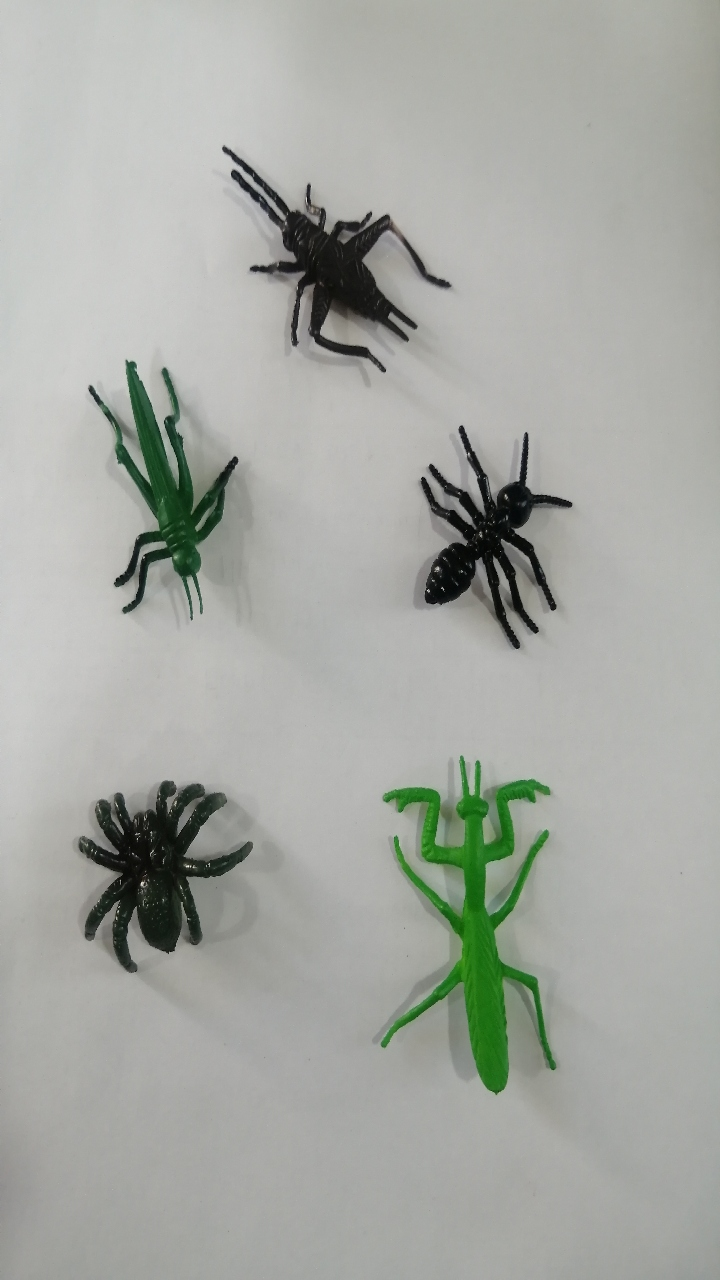intruso: (341, 731, 583, 1126), (200, 103, 475, 400), (48, 317, 248, 645), (395, 392, 604, 663), (48, 746, 272, 995)
